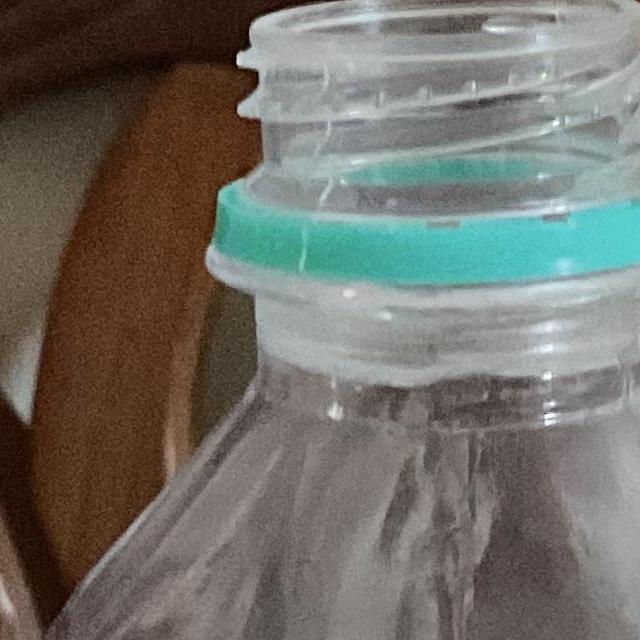open-cap: (206, 0, 640, 293)
